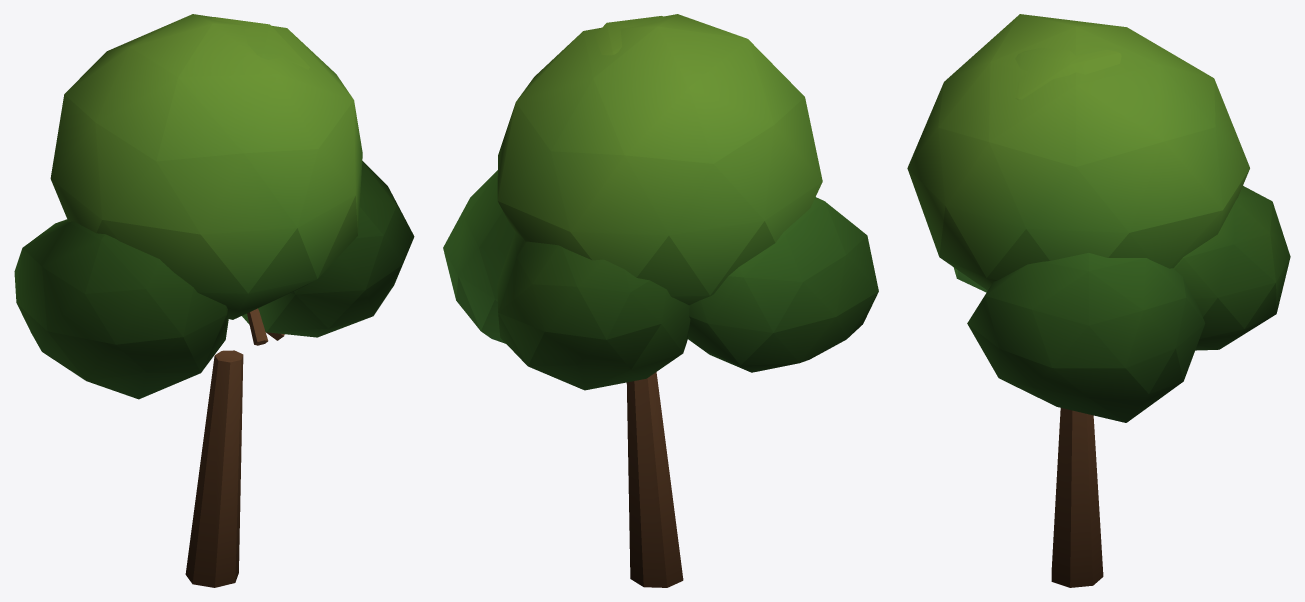
The model's file is tree_fluffy_cloud.glb.
3 renders of one model, left to right at view 1: azimuth 30°, elevation 25°; view 2: azimuth 150°, elevation 25°; view 3: azimuth 270°, elevation 25°, orthographic.
Parts seen in each view (by area): view 1: Foliage, Trunk; view 2: Foliage, Trunk; view 3: Foliage, Trunk.
Part boxes in pixels (x1,y1,x2,y2): Foliage: [14, 14, 414, 399]; Trunk: [185, 308, 284, 587]; Foliage: [443, 14, 878, 390]; Trunk: [626, 372, 683, 587]; Foliage: [907, 14, 1290, 422]; Trunk: [1051, 408, 1103, 587].
Size of the model in its own units: 3.72 by 5.12 by 3.23.
